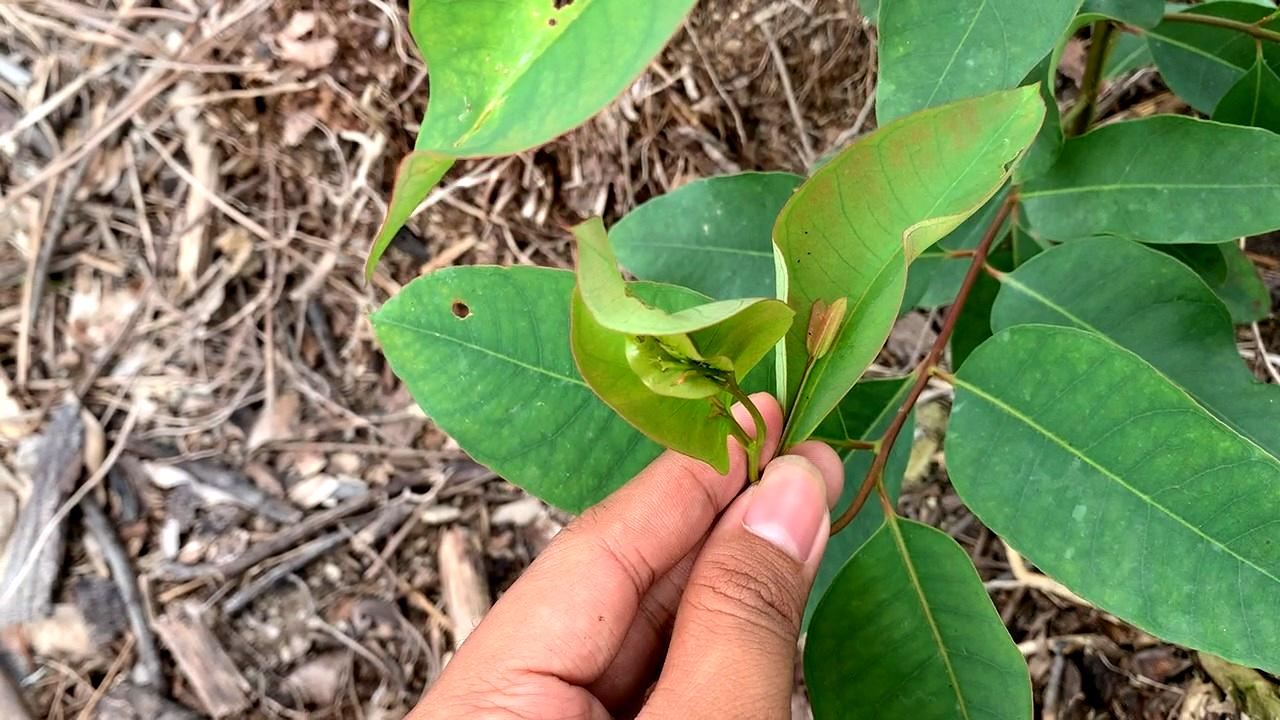Leaf Roller - Leaf: (576, 219, 786, 492)
